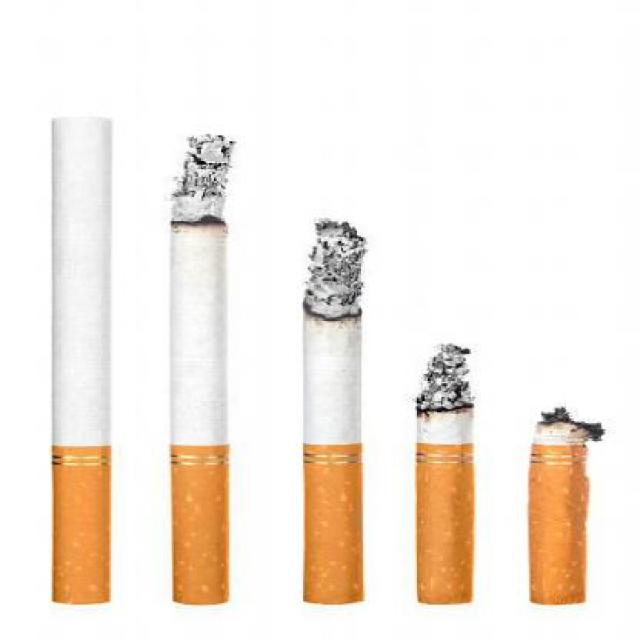cigarette: (45, 106, 121, 611), (168, 127, 238, 610), (302, 210, 369, 608), (408, 329, 486, 611), (527, 398, 602, 610)
